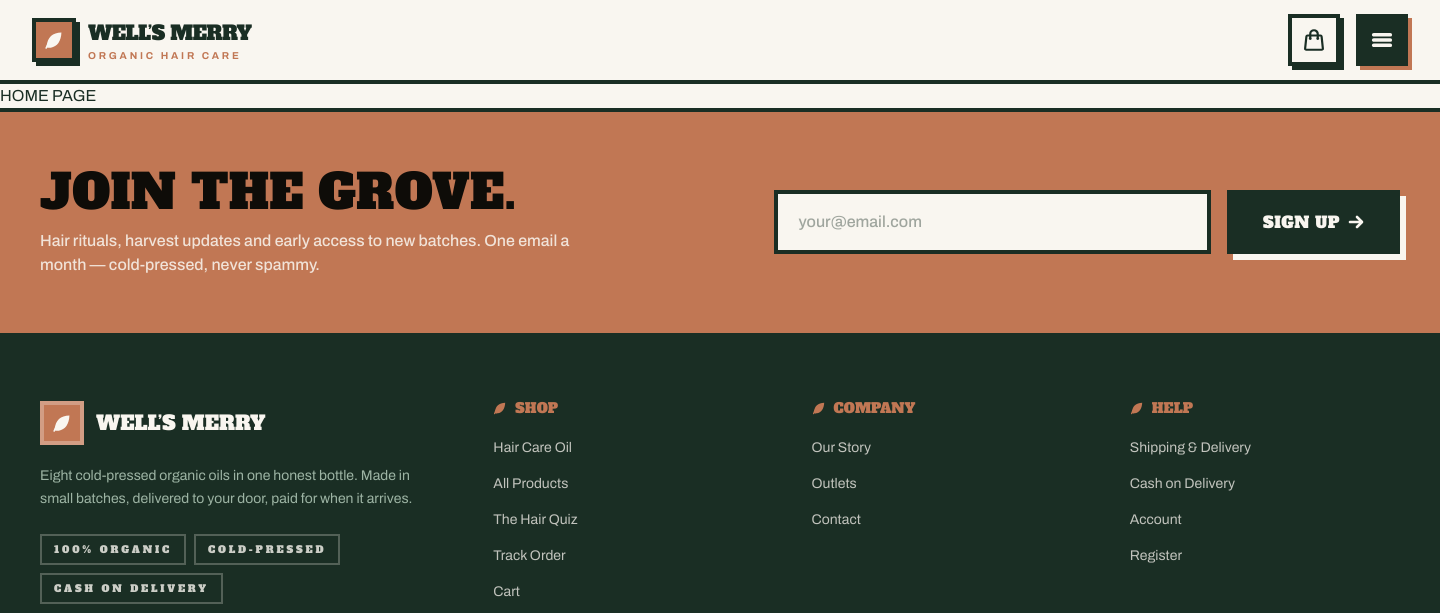
Test: Navbar overlay › closes before navigating when 'Shop' is clicked
Click the button named "open menu": click(1382, 40) left=1356, top=14, right=1408, bottom=66
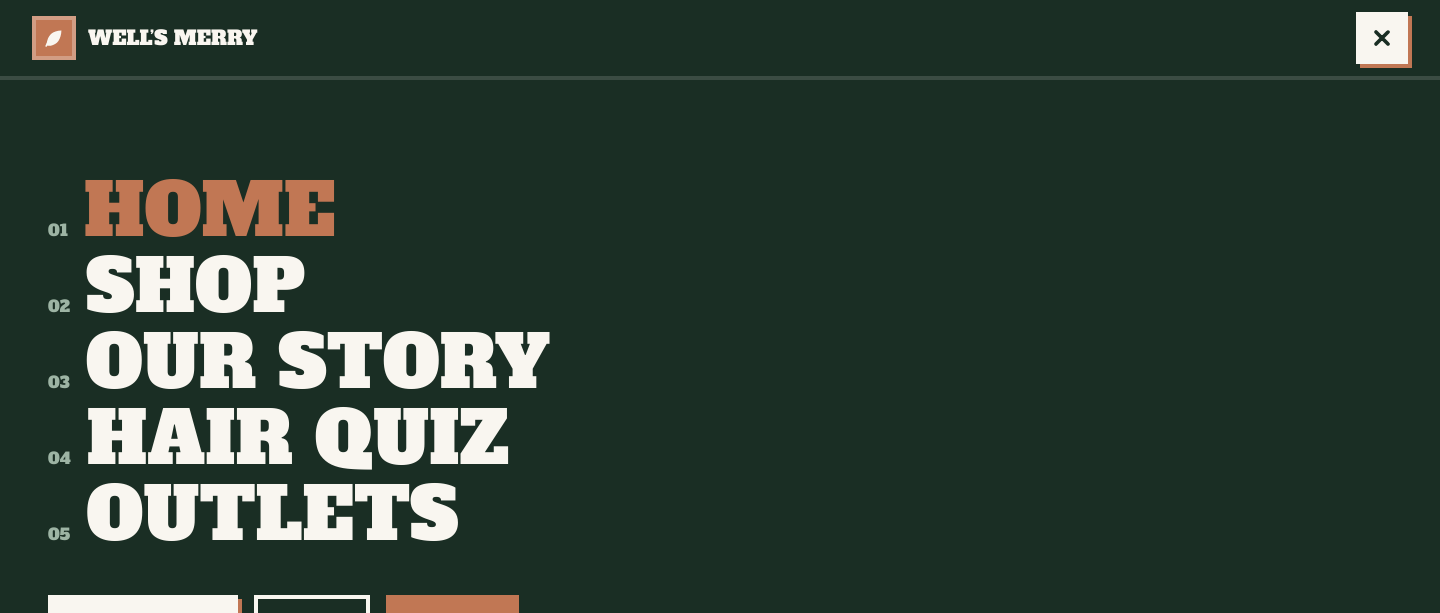
Click the link "02 Shop": click(177, 286) left=48, top=237, right=305, bottom=336
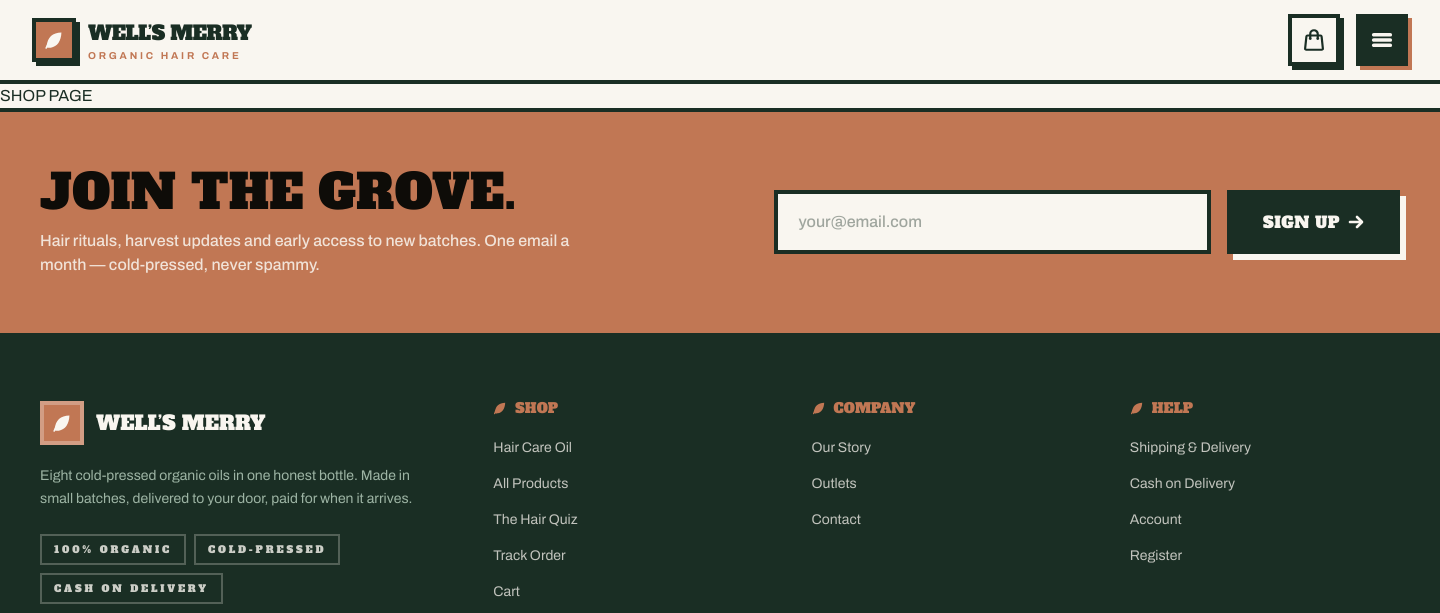
Expected: the text "SHOP PAGE" is shown, left=0, top=87, right=92, bottom=104
